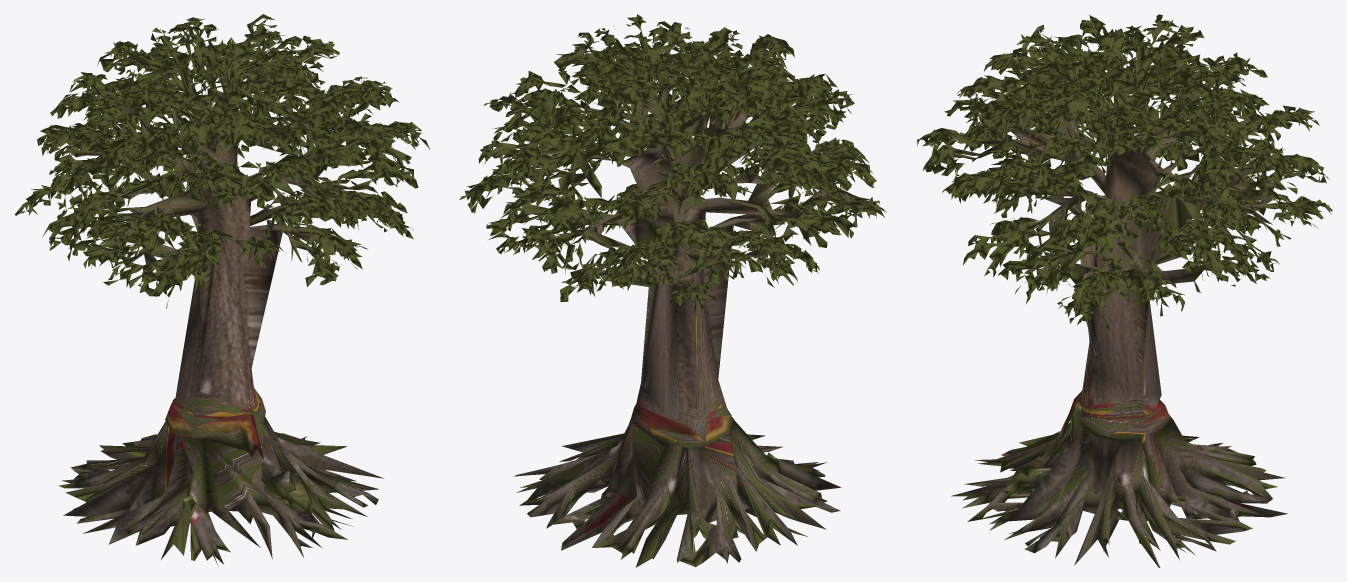
The model's file is lib_tp_da.near.glb.
The picture shows the model from 3 angles, left to right: view 1: azimuth 30°, elevation 25°; view 2: azimuth 150°, elevation 25°; view 3: azimuth 270°, elevation 25°; orthographic projection.
Bounding box in the file's own units: 1.54 × 1.9 × 1.57.
Materials: 1 (1 with a texture image).
